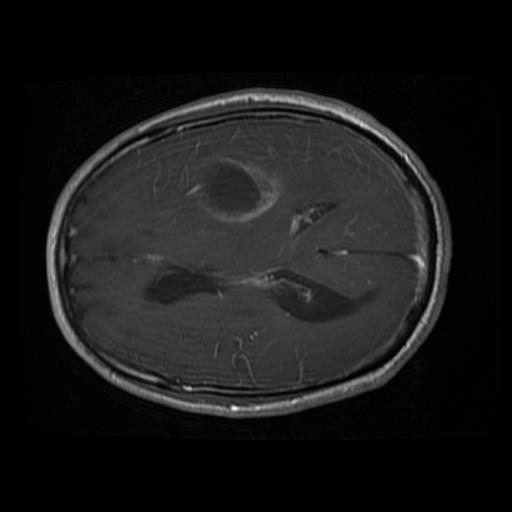glioma: (185, 152, 286, 222)
